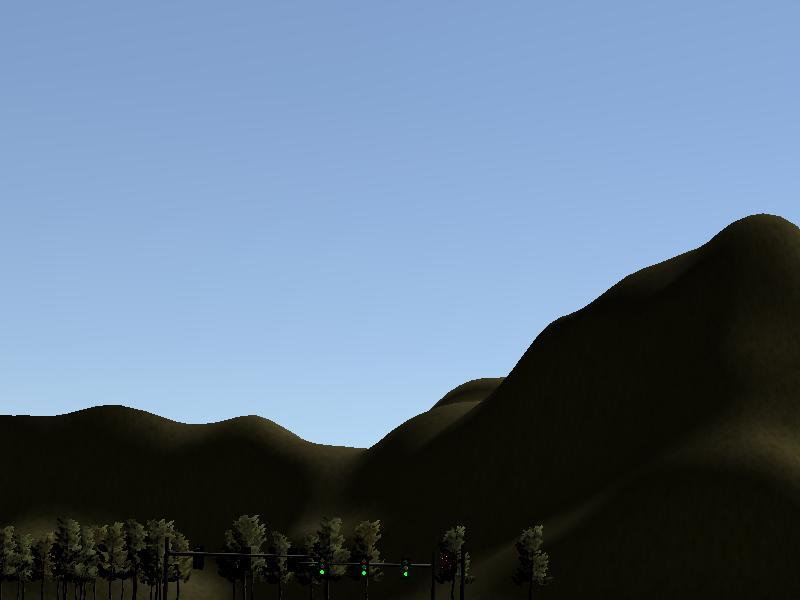Green: (316, 554, 328, 580), (359, 558, 369, 581), (400, 559, 410, 578)
